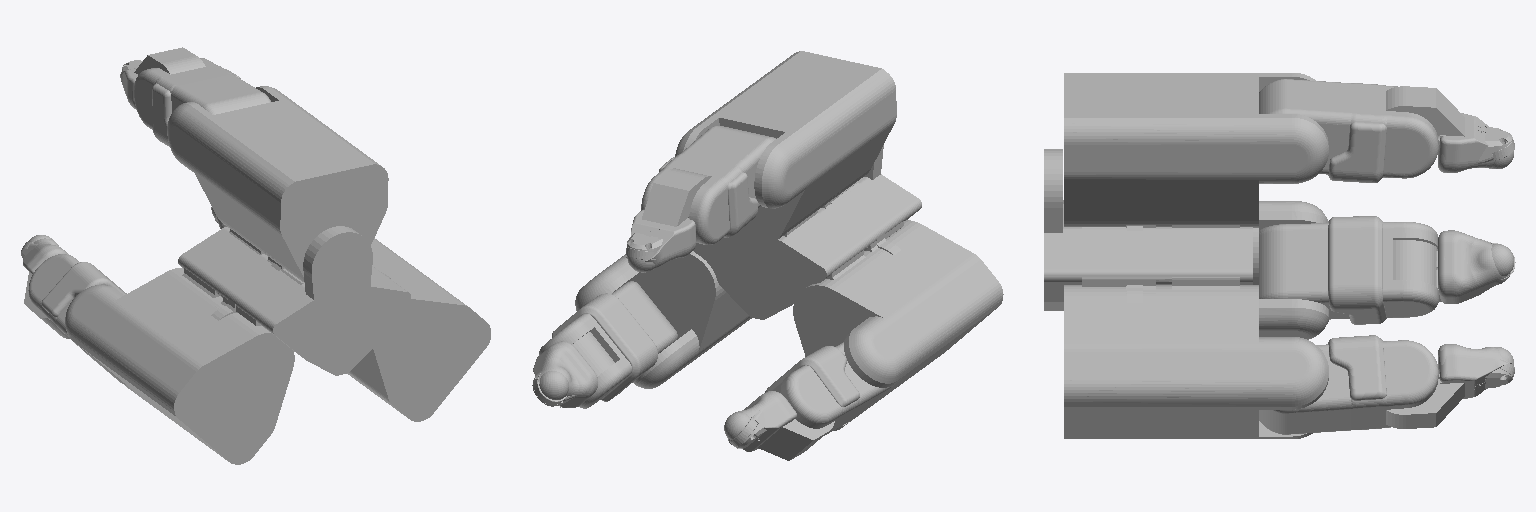
--- Render facts (derived) ---
3 views of the same robot in one strip: view 1: azimuth 30°, elevation 25°; view 2: azimuth 150°, elevation 25°; view 3: azimuth 270°, elevation 25° (orthographic).
Model smart_grasping_sandbox with 35 links and 34 joints (15 revolute, 19 fixed), rooted at world, posed all joints at 0.
Links seen in each view (by area): view 1: H1_F3_base_link, H1_F2_base_link, H1_base_link, H1_F1_base_link, H1_F2_link_1, H1_F3_link_1, H1_F2_link_2, H1_F3_link_2; view 2: H1_F2_base_link, H1_F3_base_link, H1_base_link, H1_F1_base_link, H1_F2_link_1, H1_F1_link_1, H1_F3_link_1, H1_F2_link_2, H1_F1_link_2, H1_F3_link_2, H1_F3_tip, H1_F1_tip (+1 smaller); view 3: H1_F2_base_link, H1_F1_base_link, H1_F3_link_1, H1_base_link, H1_F2_link_1, H1_F1_link_1, H1_F3_link_2, H1_F2_link_2, H1_F1_link_2, H1_F3_base_link, H1_F1_palm_link, H1_F2_tip (+2 smaller).
Link boxes in pixels (x1=…): H1_F3_base_link: x1=65, y1=268, x2=294, y2=464; H1_F2_base_link: x1=167, y1=86, x2=388, y2=282; H1_base_link: x1=178, y1=226, x2=410, y2=375; H1_F1_base_link: x1=347, y1=238, x2=490, y2=421; H1_F2_link_1: x1=134, y1=58, x2=270, y2=146; H1_F3_link_1: x1=28, y1=254, x2=126, y2=384; H1_F2_link_2: x1=120, y1=47, x2=205, y2=109; H1_F3_link_2: x1=23, y1=238, x2=69, y2=338; H1_F2_base_link: x1=675, y1=51, x2=896, y2=245; H1_F3_base_link: x1=793, y1=220, x2=1003, y2=430; H1_base_link: x1=693, y1=145, x2=921, y2=319; H1_F1_base_link: x1=575, y1=251, x2=751, y2=388; H1_F2_link_1: x1=641, y1=126, x2=775, y2=244; H1_F1_link_1: x1=539, y1=281, x2=677, y2=408; H1_F3_link_1: x1=765, y1=342, x2=893, y2=435; H1_F2_link_2: x1=631, y1=168, x2=711, y2=269; H1_F1_link_2: x1=533, y1=332, x2=614, y2=407; H1_F3_link_2: x1=728, y1=391, x2=834, y2=460; H1_F3_tip: x1=724, y1=410, x2=766, y2=448; H1_F1_tip: x1=532, y1=360, x2=585, y2=406; H1_F2_base_link: x1=1064, y1=73, x2=1328, y2=227; H1_F1_base_link: x1=1064, y1=285, x2=1328, y2=438; H1_F3_link_1: x1=1259, y1=216, x2=1438, y2=324; H1_base_link: x1=1044, y1=149, x2=1252, y2=310; H1_F2_link_1: x1=1259, y1=79, x2=1438, y2=182; H1_F1_link_1: x1=1259, y1=335, x2=1438, y2=434; H1_F3_link_2: x1=1393, y1=230, x2=1510, y2=303; H1_F2_link_2: x1=1386, y1=86, x2=1493, y2=172; H1_F1_link_2: x1=1386, y1=344, x2=1511, y2=428; H1_F3_base_link: x1=1253, y1=201, x2=1328, y2=339; H1_F1_palm_link: x1=1082, y1=277, x2=1239, y2=293; H1_F2_tip: x1=1478, y1=126, x2=1514, y2=168.
Size in the robot's own frame: 0.2063 by 0.2419 by 0.1683 metres.
16 mesh visuals loaded from 13 distinct referenced files (6 binary STL); not drawn: 7 (reference not matched to a file when rendering).

The robot description file, URDF, robot "smart_grasping_sandbox":
<?xml version="1.0" ?>
<!-- =================================================================================== -->
<!-- |    This document was autogenerated by xacro from /smart_grasping_sandbox/src/smart_grasping_sandbox/fh_desc/robots/right_H1_ur5.urdf | -->
<!-- |    EDITING THIS FILE BY HAND IS NOT RECOMMENDED                                 | -->
<!-- =================================================================================== -->
<robot name="smart_grasping_sandbox" xmlns:xacro="http://ros.org/wiki/xacro">
  <!--
  Author: Kelsey Hawkins
  Contributers: Jimmy Da Silva, Ajit Krisshna N L, Muhammad Asif Rana
-->
  <!-- Inertia parameters -->
  <!-- This mass might be incorrect -->
  <!-- These parameters are borrowed from the urcontrol.conf file
       but are not verified for the correct permutation.
       The permutation was guessed by looking at the UR5 parameters.
       Serious use of these parameters needs further inspection. -->
  <!-- Kinematic model -->
  <!-- Properties from urcontrol.conf -->
  <!-- Arbitrary offsets for shoulder/elbow joints -->
  <!-- measured from model -->
  <!-- measured from model -->
  <!-- link lengths used in model -->
  <link name="world"/>
  <joint name="world_joint" type="fixed">
    <parent link="world"/>
    <child link="base_link"/>
    <origin rpy="0.0 0.0 0.0" xyz="0.0 -1.0 1.0"/>
  </joint>
  <link name="base_link">
    <visual>
      <geometry>
        <mesh filename="package://ur_description/meshes/ur10/collision/base.stl"/>
      </geometry>
    </visual>
    <collision>
      <geometry>
        <mesh filename="package://ur_description/meshes/ur10/collision/base.stl"/>
      </geometry>
    </collision>
    <inertial>
      <mass value="4.0"/>
      <origin rpy="0 0 0" xyz="0.0 0.0 0.0"/>
      <inertia ixx="0.0061063308908" ixy="0.0" ixz="0.0" iyy="0.0061063308908" iyz="0.0" izz="0.01125"/>
    </inertial>
  </link>
  <joint name="shoulder_pan_joint" type="revolute">
    <parent link="base_link"/>
    <child link="shoulder_link"/>
    <origin rpy="0.0 0.0 0.0" xyz="0.0 0.0 0.1273"/>
    <axis xyz="0 0 1"/>
    <limit effort="330.0" lower="-3.14159265359" upper="3.14159265359" velocity="2.16"/>
    <dynamics damping="0.0" friction="0.0"/>
  </joint>
  <link name="shoulder_link">
    <visual>
      <geometry>
        <mesh filename="package://ur_description/meshes/ur10/collision/shoulder.stl"/>
      </geometry>
    </visual>
    <collision>
      <geometry>
        <mesh filename="package://ur_description/meshes/ur10/collision/shoulder.stl"/>
      </geometry>
    </collision>
    <inertial>
      <mass value="7.778"/>
      <origin rpy="0 0 0" xyz="0.0 0.0 0.0"/>
      <inertia ixx="0.0314743125769" ixy="0.0" ixz="0.0" iyy="0.0314743125769" iyz="0.0" izz="0.021875625"/>
    </inertial>
  </link>
  <joint name="shoulder_lift_joint" type="revolute">
    <parent link="shoulder_link"/>
    <child link="upper_arm_link"/>
    <origin rpy="0.0 1.57079632679 0.0" xyz="0.0 0.220941 0.0"/>
    <axis xyz="0 1 0"/>
    <limit effort="330.0" lower="-3.14159265359" upper="3.14159265359" velocity="2.16"/>
    <dynamics damping="0.0" friction="0.0"/>
  </joint>
  <link name="upper_arm_link">
    <visual>
      <geometry>
        <mesh filename="package://ur_description/meshes/ur10/collision/upperarm.stl"/>
      </geometry>
      <material name="LightGrey">
        <color rgba="0.7 0.7 0.7 1.0"/>
      </material>
    </visual>
    <collision>
      <geometry>
        <mesh filename="package://ur_description/meshes/ur10/collision/upperarm.stl"/>
      </geometry>
    </collision>
    <inertial>
      <mass value="12.93"/>
      <origin rpy="0 0 0" xyz="0.0 0.0 0.306"/>
      <inertia ixx="0.421753803798" ixy="0.0" ixz="0.0" iyy="0.421753803798" iyz="0.0" izz="0.036365625"/>
    </inertial>
  </link>
  <joint name="elbow_joint" type="revolute">
    <parent link="upper_arm_link"/>
    <child link="forearm_link"/>
    <origin rpy="0.0 0.0 0.0" xyz="0.0 -0.1719 0.612"/>
    <axis xyz="0 1 0"/>
    <limit effort="150.0" lower="-3.14159265359" upper="3.14159265359" velocity="3.15"/>
    <dynamics damping="0.0" friction="0.0"/>
  </joint>
  <link name="forearm_link">
    <visual>
      <geometry>
        <mesh filename="package://ur_description/meshes/ur10/collision/forearm.stl"/>
      </geometry>
      <material name="LightGrey">
        <color rgba="0.7 0.7 0.7 1.0"/>
      </material>
    </visual>
    <collision>
      <geometry>
        <mesh filename="package://ur_description/meshes/ur10/collision/forearm.stl"/>
      </geometry>
    </collision>
    <inertial>
      <mass value="3.87"/>
      <origin rpy="0 0 0" xyz="0.0 0.0 0.28615"/>
      <inertia ixx="0.111069694097" ixy="0.0" ixz="0.0" iyy="0.111069694097" iyz="0.0" izz="0.010884375"/>
    </inertial>
  </link>
  <joint name="wrist_1_joint" type="revolute">
    <parent link="forearm_link"/>
    <child link="wrist_1_link"/>
    <origin rpy="0.0 1.57079632679 0.0" xyz="0.0 0.0 0.5723"/>
    <axis xyz="0 1 0"/>
    <limit effort="54.0" lower="-3.14159265359" upper="3.14159265359" velocity="3.2"/>
    <dynamics damping="0.0" friction="0.0"/>
  </joint>
  <link name="wrist_1_link">
    <visual>
      <geometry>
        <mesh filename="package://ur_description/meshes/ur10/collision/wrist1.stl"/>
      </geometry>
      <material name="LightGrey">
        <color rgba="0.7 0.7 0.7 1.0"/>
      </material>
    </visual>
    <collision>
      <geometry>
        <mesh filename="package://ur_description/meshes/ur10/collision/wrist1.stl"/>
      </geometry>
    </collision>
    <inertial>
      <mass value="1.96"/>
      <origin rpy="0 0 0" xyz="0.0 0.0 0.0"/>
      <inertia ixx="0.0051082479567" ixy="0.0" ixz="0.0" iyy="0.0051082479567" iyz="0.0" izz="0.0055125"/>
    </inertial>
  </link>
  <joint name="wrist_2_joint" type="revolute">
    <parent link="wrist_1_link"/>
    <child link="wrist_2_link"/>
    <origin rpy="0.0 0.0 0.0" xyz="0.0 0.1149 0.0"/>
    <axis xyz="0 0 1"/>
    <limit effort="54.0" lower="-3.14159265359" upper="3.14159265359" velocity="3.2"/>
    <dynamics damping="0.0" friction="0.0"/>
  </joint>
  <link name="wrist_2_link">
    <visual>
      <geometry>
        <mesh filename="package://ur_description/meshes/ur10/collision/wrist2.stl"/>
      </geometry>
      <material name="LightGrey">
        <color rgba="0.7 0.7 0.7 1.0"/>
      </material>
    </visual>
    <collision>
      <geometry>
        <mesh filename="package://ur_description/meshes/ur10/collision/wrist2.stl"/>
      </geometry>
    </collision>
    <inertial>
      <mass value="1.96"/>
      <origin rpy="0 0 0" xyz="0.0 0.0 0.0"/>
      <inertia ixx="0.0051082479567" ixy="0.0" ixz="0.0" iyy="0.0051082479567" iyz="0.0" izz="0.0055125"/>
    </inertial>
  </link>
  <joint name="wrist_3_joint" type="revolute">
    <parent link="wrist_2_link"/>
    <child link="wrist_3_link"/>
    <origin rpy="0.0 0.0 0.0" xyz="0.0 0.0 0.1157"/>
    <axis xyz="0 1 0"/>
    <limit effort="54.0" lower="-3.14159265359" upper="3.14159265359" velocity="3.2"/>
    <dynamics damping="0.0" friction="0.0"/>
  </joint>
  <link name="wrist_3_link">
    <visual>
      <geometry>
        <mesh filename="package://ur_description/meshes/ur10/collision/wrist3.stl"/>
      </geometry>
      <material name="LightGrey">
        <color rgba="0.7 0.7 0.7 1.0"/>
      </material>
    </visual>
    <collision>
      <geometry>
        <mesh filename="package://ur_description/meshes/ur10/collision/wrist3.stl"/>
      </geometry>
    </collision>
    <inertial>
      <mass value="0.202"/>
      <origin rpy="0 0 0" xyz="0.0 0.0 0.0"/>
      <inertia ixx="0.000526462289415" ixy="0.0" ixz="0.0" iyy="0.000526462289415" iyz="0.0" izz="0.000568125"/>
    </inertial>
  </link>
  <joint name="ee_fixed_joint" type="fixed">
    <parent link="wrist_3_link"/>
    <child link="ee_link"/>
    <origin rpy="0.0 0.0 1.57079632679" xyz="0.0 0.0922 0.0"/>
  </joint>
  <link name="ee_link">
    <collision>
      <geometry>
        <box size="0.01 0.01 0.01"/>
      </geometry>
      <origin rpy="0 0 0" xyz="-0.01 0 0"/>
    </collision>
  </link>
  <transmission name="shoulder_pan_trans">
    <type>transmission_interface/SimpleTransmission</type>
    <joint name="shoulder_pan_joint">
      <hardwareInterface>PositionJointInterface</hardwareInterface>
    </joint>
    <actuator name="shoulder_pan_motor">
      <mechanicalReduction>1</mechanicalReduction>
    </actuator>
  </transmission>
  <transmission name="shoulder_lift_trans">
    <type>transmission_interface/SimpleTransmission</type>
    <joint name="shoulder_lift_joint">
      <hardwareInterface>PositionJointInterface</hardwareInterface>
    </joint>
    <actuator name="shoulder_lift_motor">
      <mechanicalReduction>1</mechanicalReduction>
    </actuator>
  </transmission>
  <transmission name="elbow_trans">
    <type>transmission_interface/SimpleTransmission</type>
    <joint name="elbow_joint">
      <hardwareInterface>PositionJointInterface</hardwareInterface>
    </joint>
    <actuator name="elbow_motor">
      <mechanicalReduction>1</mechanicalReduction>
    </actuator>
  </transmission>
  <transmission name="wrist_1_trans">
    <type>transmission_interface/SimpleTransmission</type>
    <joint name="wrist_1_joint">
      <hardwareInterface>PositionJointInterface</hardwareInterface>
    </joint>
    <actuator name="wrist_1_motor">
      <mechanicalReduction>1</mechanicalReduction>
    </actuator>
  </transmission>
  <transmission name="wrist_2_trans">
    <type>transmission_interface/SimpleTransmission</type>
    <joint name="wrist_2_joint">
      <hardwareInterface>PositionJointInterface</hardwareInterface>
    </joint>
    <actuator name="wrist_2_motor">
      <mechanicalReduction>1</mechanicalReduction>
    </actuator>
  </transmission>
  <transmission name="wrist_3_trans">
    <type>transmission_interface/SimpleTransmission</type>
    <joint name="wrist_3_joint">
      <hardwareInterface>PositionJointInterface</hardwareInterface>
    </joint>
    <actuator name="wrist_3_motor">
      <mechanicalReduction>1</mechanicalReduction>
    </actuator>
  </transmission>
  <!-- nothing to do here at the moment -->
  <!-- ROS base_link to UR 'Base' Coordinates transform -->
  <link name="base"/>
  <joint name="base_link-base_fixed_joint" type="fixed">
    <!-- NOTE: this rotation is only needed as long as base_link itself is
                 not corrected wrt the real robot (ie: rotated over 180
                 degrees)
      -->
    <origin rpy="0 0 -3.14159265359" xyz="0 0 0"/>
    <parent link="base_link"/>
    <child link="base"/>
  </joint>
  <!-- Frame coincident with all-zeros TCP on UR controller -->
  <link name="tool0"/>
  <joint name="wrist_3_link-tool0_fixed_joint" type="fixed">
    <origin rpy="-1.57079632679 0 0" xyz="0 0.0922 0"/>
    <parent link="wrist_3_link"/>
    <child link="tool0"/>
  </joint>
  
  
  
  
  <link name="H1_base_attach"/>
  <material name="Blue">
    <color rgba="0.0 0.0 0.8 1.0"/>
  </material>
  <material name="Green">
    <color rgba="0.0 0.8 0.0 1.0"/>
  </material>
  <material name="BiotacGreen">
    <color rgba="0.31 0.85 0.42 1.0"/>
  </material>
  <material name="Grey">
    <color rgba="0.2 0.2 0.2 1.0"/>
  </material>
  <material name="LightGrey">
    <color rgba="0.6 0.6 0.6 1.0"/>
  </material>
  <material name="Red">
    <color rgba="0.8 0.0 0.0 1.0"/>
  </material>
  <material name="White">
    <color rgba="1.0 1.0 1.0 1.0"/>
  </material>
  <gazebo>
    <plugin filename="libgazebo_ros_control.so" name="ros_control">
      <robotSimType>gazebo_ros_control/DefaultRobotHWSim</robotSimType>
    </plugin>
  </gazebo>
  <link name="H1_base_link">
    <inertial>
      <origin rpy="0 0 0" xyz="-8.6116E-06 -0.0058125 0.028294"/>
      <mass value="0.07527"/>
      <inertia ixx="0.00014442" ixy="1.2033E-08" ixz="-5.9646E-10" iyy="0.00014979" iyz="-1.0288E-05" izz="5.2943E-05"/>
    </inertial>
    <visual>
      <origin rpy="0 0 0" xyz="0 0 0"/>
      <geometry>
        <mesh filename="package://fh_desc/meshes/v2/palm_link_simple.stl"/>
      </geometry>
      <material name="light_grey">
        <color rgba="0.75 0.75 0.75 1.0"/>
      </material>
    </visual>
    <collision>
      <origin rpy="0 0 0" xyz="0 0 0"/>
      <geometry>
        <mesh filename="package://fh_desc/meshes/v2/palm_link_simple.stl"/>
      </geometry>
      <material name="light_grey">
        <color rgba="0.75 0.75 0.75 1.0"/>
      </material>
    </collision>
  </link>
  <joint name="H1Base" type="fixed">
    <origin rpy="0 0 0" xyz="0 0 0"/>
    <parent link="H1_base_attach"/>
    <child link="H1_wrist_attach"/>
  </joint>
  
  <gazebo>
    <plugin name="imu_controller" filename="libgazebo_ros_imu.so">
      <alwaysOn>true</alwaysOn>
      <updateRate>50</updateRate>
      <bodyName>H1_base_link</bodyName>
      <!--imu_link -->
      <topicName>imu/data</topicName>
      <serviceName>imu/is_calibrated</serviceName>
      <gaussianNoise>2.89e-08</gaussianNoise>
      <xyzOffsets>0 0 0</xyzOffsets>
      <rpyOffsets>0 0 0</rpyOffsets>
    </plugin>
  </gazebo>
  
  <link name="H1_insert_F1"/>
  <joint name="H1_dummy_joint_1" type="fixed">
    <origin rpy="0 0 2.3562" xyz="-0.045 -0.025981 0"/>
    <axis xyz="0 -1 0"/>
    <parent link="H1_base_link"/>
    <child link="H1_insert_F1"/>
  </joint>
  <link name="H1_insert_F2"/>
  <joint name="H1_dummy_joint_2" type="fixed">
    <origin rpy="0 0 0" xyz="0 0.029019 0"/>
    <axis xyz="0 -1 0"/>
    <parent link="H1_base_link"/>
    <child link="H1_insert_F2"/>
  </joint>
  <link name="H1_insert_F3"/>
  <joint name="H1_dummy_joint_3" type="fixed">
    <origin rpy="0 0 -2.3562" xyz="0.045 -0.025981 0"/>
    <axis xyz="0 -1 0"/>
    <parent link="H1_base_link"/>
    <child link="H1_insert_F3"/>
  </joint>
  <link name="H1_wrist_attach"/>
  <joint name="H1_base_link_wrist_attach" type="fixed">
    <origin rpy="0 0 0" xyz="0 0 -0.0005"/>
    <child link="H1_base_link"/>
    <parent link="H1_wrist_attach"/>
  </joint>
  <link name="H1_F1_palm_link">
    <inertial>
      <origin rpy="0 0 0" xyz="-0.00681802120880393 -0.00947020456878004 0.067587996682422"/>
      <mass value="0.0341482312344481"/>
      <inertia ixx="2.79747833772125E-05" ixy="-5.50900644725373E-08" ixz="-2.82072424927723E-07" iyy="2.67800858812928E-05" iyz="3.1953125069394E-06" izz="9.86122271726361E-06"/>
    </inertial>
    <visual>
      <origin rpy="0 0 0" xyz="0 0 0"/>
      <geometry>
        <mesh filename="package://fh_desc/meshes/v2/finger_palm_link.stl"/>
      </geometry>
      <material name="light_grey">
        <color rgba="0.75 0.75 0.75 1.0"/>
      </material>
    </visual>
  </link>
  <link name="H1_F1_base_link">
    <inertial>
      <origin rpy="0 0 0" xyz="-0.000142856770000038 0.0265691681336443 0.0538751581621436"/>
      <mass value="0.174652229503358"/>
      <inertia ixx="0.000298372741514267" ixy="-5.05751882577435E-07" ixz="1.94982779411417E-07" iyy="0.000299629589232877" iyz="2.79565205733806E-05" izz="0.000134889645145365"/>
    </inertial>
    <visual>
      <origin rpy="0 0 0" xyz="0 0 0"/>
      <geometry>
        <mesh filename="package://fh_desc/meshes/v2/finger_base_link_simple.stl"/>
      </geometry>
      <material name="light_grey">
        <color rgba="0.75 0.75 0.75 1.0"/>
      </material>
    </visual>
    <collision>
      <origin rpy="0 0 0" xyz="0 0 0"/>
      <geometry>
        <mesh filename="package://fh_desc/meshes/v2/finger_base_link_simple.stl"/>
      </geometry>
      <material name="light_grey">
        <color rgba="0.75 0.75 0.75 1.0"/>
      </material>
    </collision>
  </link>
  <link name="H1_F1_link_1">
    <inertial>
      <origin rpy="0 0 0" xyz="-0.000141876508729455 -0.00135409566494088 0.0277606215980989"/>
      <mass value="0.0827759744227546"/>
      <inertia ixx="4.61070151157777E-05" ixy="7.47741111557837E-08" ixz="-2.25165057702697E-07" iyy="5.27678327317508E-05" iyz="-3.64603343546298E-07" izz="2.89599551320955E-05"/>
    </inertial>
    <visual>
      <origin rpy="0 0 0" xyz="0 0 0"/>
      <geometry>
        <mesh filename="package://fh_desc/meshes/v2/finger_prox_link_simple.stl"/>
      </geometry>
      <material name="light_grey">
        <color rgba="0.75 0.75 0.75 1.0"/>
      </material>
    </visual>
    <collision>
      <origin rpy="0 0 0" xyz="0 0 0"/>
      <geometry>
        <mesh filename="package://fh_desc/meshes/v2/finger_prox_link_simple.stl"/>
      </geometry>
      <material name="light_grey">
        <color rgba="0.75 0.75 0.75 1.0"/>
      </material>
    </collision>
  </link>
  <link name="H1_F1_link_2">
    <inertial>
      <origin rpy="0 0 0" xyz="0.000506812071918918 -0.00091292934992606 0.0156620851768385"/>
      <mass value="0.0270049614151599"/>
      <inertia ixx="1.06942730265546E-05" ixy="-7.1810089794211E-09" ixz="-3.49957211410822E-07" iyy="1.05772889540593E-05" iyz="-8.38595987731518E-07" izz="3.27173446995846E-06"/>
    </inertial>
    <visual>
      <origin rpy="0 0 0" xyz="0 0 0"/>
      <geometry>
        <mesh filename="package://fh_desc/meshes/v2/finger_dist_link_simple.stl"/>
      </geometry>
      <material name="light_grey">
        <color rgba="0.75 0.75 0.75 1.0"/>
      </material>
    </visual>
    <collision>
      <origin rpy="0 0 0" xyz="0 0 0"/>
      <geometry>
        <mesh filename="package://fh_desc/meshes/v2/finger_dist_link_simple.stl"/>
      </geometry>
      <material name="light_grey">
        <color rgba="0.75 0.75 0.75 1.0"/>
      </material>
    </collision>
  </link>
  <joint name="H1_F1Palm" type="fixed">
    <origin rpy="0 0 0" xyz="0 0 0"/>
    <parent link="H1_insert_F1"/>
    <child link="H1_F1_palm_link"/>
  </joint>
  <joint name="H1_F1J1" type="revolute">
    <origin rpy="-8.8818E-16 -1.0061E-16 0.022402" xyz="0 0 0.00016528"/>
    <axis xyz="0 0 1"/>
    <parent link="H1_F1_palm_link"/>
    <child link="H1_F1_base_link"/>
    <limit effort="50" lower="-0.785398163397" upper="0.785398163397" velocity="1.0"/>
    <dynamics damping="0.0" friction="0.0"/>
  </joint>
  <joint name="H1_F1J2" type="revolute">
    <origin rpy="0.070695 6.9389E-16 2.0947E-16" xyz="0 0.035 0.11683"/>
    <axis xyz="1 0 0"/>
    <parent link="H1_F1_base_link"/>
    <child link="H1_F1_link_1"/>
    <limit effort="50" lower="-1.3962634016" upper="1.0471975512" velocity="1.0"/>
    <dynamics damping="0.0" friction="0.0"/>
  </joint>
  <joint name="H1_F1J3" type="revolute">
    <origin rpy="-0.0068649 1.7347E-18 1.6176E-16" xyz="0 0 0.06"/>
    <axis xyz="1 0 0"/>
    <parent link="H1_F1_link_1"/>
    <child link="H1_F1_link_2"/>
    <limit effort="50" lower="-1.0471975512" upper="1.57079632679" velocity="1.0"/>
    <dynamics damping="0.0" friction="0.0"/>
  </joint>
  <transmission name="H1_F1J1_transmission">
    <type>transmission_interface/SimpleTransmission</type>
    <actuator name="H1_F1J1">
      <mechanicalReduction>1</mechanicalReduction>
    </actuator>
    <joint name="H1_F1J1">
      <hardwareInterface>EffortJointInterface</hardwareInterface>
    </joint>
  </transmission>
  <transmission name="H1_F1J2_transmission">
    <type>transmission_interface/SimpleTransmission</type>
    <actuator name="H1_F1J2">
      <mechanicalReduction>1</mechanicalReduction>
    </actuator>
    <joint name="H1_F1J2">
      <hardwareInterface>EffortJointInterface</hardwareInterface>
    </joint>
  </transmission>
  <transmission name="H1_F1J3_transmission">
    <type>transmission_interface/SimpleTransmission</type>
    <actuator name="H1_F1J3">
      <mechanicalReduction>1</mechanicalReduction>
    </actuator>
    <joint name="H1_F1J3">
      <hardwareInterface>EffortJointInterface</hardwareInterface>
    </joint>
  </transmission>
  <!-- finger tip -->
  <link name="H1_F1_tip">
    <inertial>
      <origin rpy="0 0 0" xyz="-0.000925580990320645 -0.00495543398528436 0.0355865585792753"/>
      <mass value="0.00906322686585137"/>
      <inertia ixx="1.10049088227995E-06" ixy="-3.7290982171096E-09" ixz="-9.54389365908683E-09" iyy="1.36130530510584E-06" iyz="6.66133713720777E-08" izz="6.42259773618367E-07"/>
    </inertial>
    <visual>
      <origin rpy="0 0 0" xyz="0 0 0"/>
      <geometry>
        <mesh filename="package://fh_desc/meshes/omd-d18-tip.stl"/>
      </geometry>
      <material name="light_grey">
        <color rgba="0.75 0.75 0.75 1.0"/>
      </material>
    </visual>
    <collision>
      <origin rpy="0 0 0" xyz="0 0 0"/>
      <geometry>
        <mesh filename="package://fh_desc/meshes/omd-d18-tip.stl"/>
      </geometry>
      <material name="light_grey">
        <color rgba="0.75 0.75 0.75 1.0"/>
      </material>
    </collision>
  </link>
  <link name="H1_F1_optoforce"/>
  <joint name="H1_F1_tip_to_optoforce" type="fixed">
    <parent link="H1_F1_tip"/>
    <child link="H1_F1_optoforce"/>
    <origin rpy="-0.35 0 0" xyz="0 -0.006 0.046"/>
  </joint>
  <joint name="H1_F1_tip" type="fixed">
    <parent link="H1_F1_link_2"/>
    <child link="H1_F1_tip"/>
  </joint>
  <link name="H1_F2_palm_link">
    <inertial>
      <origin rpy="0 0 0" xyz="-0.00681802120880393 -0.00947020456878004 0.067587996682422"/>
      <mass value="0.0341482312344481"/>
      <inertia ixx="2.79747833772125E-05" ixy="-5.50900644725373E-08" ixz="-2.82072424927723E-07" iyy="2.67800858812928E-05" iyz="3.1953125069394E-06" izz="9.86122271726361E-06"/>
    </inertial>
    <visual>
      <origin rpy="0 0 0" xyz="0 0 0"/>
      <geometry>
        <mesh filename="package://fh_desc/meshes/v2/finger_palm_link.stl"/>
      </geometry>
      <material name="light_grey">
        <color rgba="0.75 0.75 0.75 1.0"/>
      </material>
    </visual>
  </link>
  <link name="H1_F2_base_link">
    <inertial>
      <origin rpy="0 0 0" xyz="-0.000142856770000038 0.0265691681336443 0.0538751581621436"/>
      <mass value="0.174652229503358"/>
      <inertia ixx="0.000298372741514267" ixy="-5.05751882577435E-07" ixz="1.94982779411417E-07" iyy="0.000299629589232877" iyz="2.79565205733806E-05" izz="0.000134889645145365"/>
    </inertial>
    <visual>
      <origin rpy="0 0 0" xyz="0 0 0"/>
      <geometry>
        <mesh filename="package://fh_desc/meshes/v2/finger_base_link_simple.stl"/>
      </geometry>
      <material name="light_grey">
        <color rgba="0.75 0.75 0.75 1.0"/>
      </material>
    </visual>
    <collision>
      <origin rpy="0 0 0" xyz="0 0 0"/>
      <geometry>
        <mesh filename="package://fh_desc/meshes/v2/finger_base_link_simple.stl"/>
      </geometry>
      <material name="light_grey">
        <color rgba="0.75 0.75 0.75 1.0"/>
      </material>
    </collision>
  </link>
  <link name="H1_F2_link_1">
    <inertial>
      <origin rpy="0 0 0" xyz="-0.000141876508729455 -0.00135409566494088 0.0277606215980989"/>
      <mass value="0.0827759744227546"/>
      <inertia ixx="4.61070151157777E-05" ixy="7.47741111557837E-08" ixz="-2.25165057702697E-07" iyy="5.27678327317508E-05" iyz="-3.64603343546298E-07" izz="2.89599551320955E-05"/>
    </inertial>
    <visual>
      <origin rpy="0 0 0" xyz="0 0 0"/>
      <geometry>
        <mesh filename="package://fh_desc/meshes/v2/finger_prox_link_simple.stl"/>
      </geometry>
      <material name="light_grey">
        <color rgba="0.75 0.75 0.75 1.0"/>
      </material>
    </visual>
    <collision>
      <origin rpy="0 0 0" xyz="0 0 0"/>
      <geometry>
        <mesh filename="package://fh_desc/meshes/v2/finger_prox_link_simple.stl"/>
      </geometry>
      <material name="light_grey">
        <color rgba="0.75 0.75 0.75 1.0"/>
      </material>
    </collision>
  </link>
  <link name="H1_F2_link_2">
    <inertial>
      <origin rpy="0 0 0" xyz="0.000506812071918918 -0.00091292934992606 0.0156620851768385"/>
      <mass value="0.0270049614151599"/>
      <inertia ixx="1.06942730265546E-05" ixy="-7.1810089794211E-09" ixz="-3.49957211410822E-07" iyy="1.05772889540593E-05" iyz="-8.38595987731518E-07" izz="3.27173446995846E-06"/>
    </inertial>
    <visual>
      <origin rpy="0 0 0" xyz="0 0 0"/>
      <geometry>
        <mesh filename="package://fh_desc/meshes/v2/finger_dist_link_simple.stl"/>
      </geometry>
      <material name="light_grey">
        <color rgba="0.75 0.75 0.75 1.0"/>
      </material>
    </visual>
    <collision>
      <origin rpy="0 0 0" xyz="0 0 0"/>
      <geometry>
        <mesh filename="package://fh_desc/meshes/v2/finger_dist_link_simple.stl"/>
      </geometry>
      <material name="light_grey">
        <color rgba="0.75 0.75 0.75 1.0"/>
      </material>
    </collision>
  </link>
  <joint name="H1_F2Palm" type="fixed">
    <origin rpy="0 0 0" xyz="0 0 0"/>
    <parent link="H1_insert_F2"/>
    <child link="H1_F2_palm_link"/>
  </joint>
  <joint name="H1_F2J1" type="revolute">
    <origin rpy="-8.8818E-16 -1.0061E-16 0.022402" xyz="0 0 0.00016528"/>
    <axis xyz="0 0 1"/>
    <parent link="H1_F2_palm_link"/>
    <child link="H1_F2_base_link"/>
    <limit effort="30" lower="-0.785398163397" upper="0.785398163397" velocity="1.0"/>
    <dynamics damping="0.0" friction="0.0"/>
  </joint>
  <joint name="H1_F2J2" type="revolute">
    <origin rpy="0.070695 6.9389E-16 2.0947E-16" xyz="0 0.035 0.11683"/>
    <axis xyz="1 0 0"/>
    <parent link="H1_F2_base_link"/>
    <child link="H1_F2_link_1"/>
    <limit effort="30" lower="-1.3962634016" upper="1.0471975512" velocity="1.0"/>
    <dynamics damping="0.0" friction="0.0"/>
  </joint>
  <joint name="H1_F2J3" type="revolute">
    <origin rpy="-0.0068649 1.7347E-18 1.6176E-16" xyz="0 0 0.06"/>
    <axis xyz="1 0 0"/>
    <parent link="H1_F2_link_1"/>
    <child link="H1_F2_link_2"/>
    <limit effort="30" lower="-1.0471975512" upper="1.57079632679" velocity="1.0"/>
    <dynamics damping="0.0" friction="0.0"/>
  </joint>
  <transmission name="H1_F2J1_transmission">
    <type>transmission_interface/SimpleTransmission</type>
    <actuator name="H1_F2J1">
      <mechanicalReduction>1</mechanicalReduction>
    </actuator>
    <joint name="H1_F2J1">
      <hardwareInterface>EffortJointInterface</hardwareInterface>
    </joint>
  </transmission>
  <transmission name="H1_F2J2_transmission">
    <type>transmission_interface/SimpleTransmission</type>
    <actuator name="H1_F2J2">
      <mechanicalReduction>1</mechanicalReduction>
    </actuator>
    <joint name="H1_F2J2">
      <hardwareInterface>EffortJointInterface</hardwareInterface>
    </joint>
  </transmission>
  <transmission name="H1_F2J3_transmission">
    <type>transmission_interface/SimpleTransmission</type>
    <actuator name="H1_F2J3">
      <mechanicalReduction>1</mechanicalReduction>
    </actuator>
    <joint name="H1_F2J3">
      <hardwareInterface>EffortJointInterface</hardwareInterface>
    </joint>
  </transmission>
  <!-- finger tip -->
  <link name="H1_F2_tip">
    <inertial>
      <origin rpy="0 0 0" xyz="-0.000925580990320645 -0.00495543398528436 0.0355865585792753"/>
      <mass value="0.00906322686585137"/>
      <inertia ixx="1.10049088227995E-06" ixy="-3.7290982171096E-09" ixz="-9.54389365908683E-09" iyy="1.36130530510584E-06" iyz="6.66133713720777E-08" izz="6.42259773618367E-07"/>
    </inertial>
    <visual>
      <origin rpy="0 0 0" xyz="0 0 0"/>
      <geometry>
        <mesh filename="package://fh_desc/meshes/omd-d18-tip.stl"/>
      </geometry>
      <material name="light_grey">
        <color rgba="0.75 0.75 0.75 1.0"/>
      </material>
    </visual>
    <collision>
      <origin rpy="0 0 0" xyz="0 0 0"/>
      <geometry>
        <mesh filename="package://fh_desc/meshes/omd-d18-tip.stl"/>
      </geometry>
      <material name="light_grey">
        <color rgba="0.75 0.75 0.75 1.0"/>
      </material>
    </collision>
  </link>
  <link name="H1_F2_optoforce"/>
  <joint name="H1_F2_tip_to_optoforce" type="fixed">
    <parent link="H1_F2_tip"/>
    <child link="H1_F2_optoforce"/>
    <origin rpy="-0.35 0 0" xyz="0 -0.006 0.046"/>
  </joint>
  <joint name="H1_F2_tip" type="fixed">
    <parent link="H1_F2_link_2"/>
    <child link="H1_F2_tip"/>
  </joint>
  <link name="H1_F3_palm_link">
    <inertial>
      <origin rpy="0 0 0" xyz="-0.00681802120880393 -0.00947020456878004 0.067587996682422"/>
      <mass value="0.0341482312344481"/>
      <inertia ixx="2.79747833772125E-05" ixy="-5.50900644725373E-08" ixz="-2.82072424927723E-07" iyy="2.67800858812928E-05" iyz="3.1953125069394E-06" izz="9.86122271726361E-06"/>
    </inertial>
    <visual>
      <origin rpy="0 0 0" xyz="0 0 0"/>
      <geometry>
        <mesh filename="package://fh_desc/meshes/v2/finger_palm_link.stl"/>
      </geometry>
      <material name="light_grey">
        <color rgba="0.75 0.75 0.75 1.0"/>
      </material>
    </visual>
  </link>
  <link name="H1_F3_base_link">
    <inertial>
      <origin rpy="0 0 0" xyz="-0.000142856770000038 0.0265691681336443 0.0538751581621436"/>
      <mass value="0.174652229503358"/>
      <inertia ixx="0.000298372741514267" ixy="-5.05751882577435E-07" ixz="1.94982779411417E-07" iyy="0.000299629589232877" iyz="2.79565205733806E-05" izz="0.000134889645145365"/>
    </inertial>
    <visual>
      <origin rpy="0 0 0" xyz="0 0 0"/>
      <geometry>
        <mesh filename="package://fh_desc/meshes/v2/finger_base_link_simple.stl"/>
      </geometry>
      <material name="light_grey">
        <color rgba="0.75 0.75 0.75 1.0"/>
      </material>
    </visual>
    <collision>
      <origin rpy="0 0 0" xyz="0 0 0"/>
      <geometry>
        <mesh filename="package://fh_desc/meshes/v2/finger_base_link_simple.stl"/>
      </geometry>
      <material name="light_grey">
        <color rgba="0.75 0.75 0.75 1.0"/>
      </material>
    </collision>
  </link>
  <link name="H1_F3_link_1">
    <inertial>
      <origin rpy="0 0 0" xyz="-0.000141876508729455 -0.00135409566494088 0.0277606215980989"/>
      <mass value="0.0827759744227546"/>
      <inertia ixx="4.61070151157777E-05" ixy="7.47741111557837E-08" ixz="-2.25165057702697E-07" iyy="5.27678327317508E-05" iyz="-3.64603343546298E-07" izz="2.89599551320955E-05"/>
    </inertial>
    <visual>
      <origin rpy="0 0 0" xyz="0 0 0"/>
      <geometry>
        <mesh filename="package://fh_desc/meshes/v2/finger_prox_link_simple.stl"/>
      </geometry>
      <material name="light_grey">
        <color rgba="0.75 0.75 0.75 1.0"/>
      </material>
    </visual>
    <collision>
      <origin rpy="0 0 0" xyz="0 0 0"/>
      <geometry>
        <mesh filename="package://fh_desc/meshes/v2/finger_prox_link_simple.stl"/>
      </geometry>
      <material name="light_grey">
        <color rgba="0.75 0.75 0.75 1.0"/>
      </material>
    </collision>
  </link>
  <link name="H1_F3_link_2">
    <inertial>
      <origin rpy="0 0 0" xyz="0.000506812071918918 -0.00091292934992606 0.0156620851768385"/>
      <mass value="0.0270049614151599"/>
      <inertia ixx="1.06942730265546E-05" ixy="-7.1810089794211E-09" ixz="-3.49957211410822E-07" iyy="1.05772889540593E-05" iyz="-8.38595987731518E-07" izz="3.27173446995846E-06"/>
    </inertial>
    <visual>
      <origin rpy="0 0 0" xyz="0 0 0"/>
      <geometry>
        <mesh filename="package://fh_desc/meshes/v2/finger_dist_link_simple.stl"/>
      </geometry>
      <material name="light_grey">
        <color rgba="0.75 0.75 0.75 1.0"/>
      </material>
    </visual>
    <collision>
      <origin rpy="0 0 0" xyz="0 0 0"/>
      <geometry>
        <mesh filename="package://fh_desc/meshes/v2/finger_dist_link_simple.stl"/>
      </geometry>
      <material name="light_grey">
        <color rgba="0.75 0.75 0.75 1.0"/>
      </material>
    </collision>
  </link>
  <joint name="H1_F3Palm" type="fixed">
    <origin rpy="0 0 0" xyz="0 0 0"/>
    <parent link="H1_insert_F3"/>
    <child link="H1_F3_palm_link"/>
  </joint>
  <joint name="H1_F3J1" type="revolute">
    <origin rpy="-8.8818E-16 -1.0061E-16 0.022402" xyz="0 0 0.00016528"/>
    <axis xyz="0 0 1"/>
    <parent link="H1_F3_palm_link"/>
    <child link="H1_F3_base_link"/>
    <limit effort="30" lower="-0.785398163397" upper="0.785398163397" velocity="1.0"/>
    <dynamics damping="0.0" friction="0.0"/>
  </joint>
  <joint name="H1_F3J2" type="revolute">
    <origin rpy="0.070695 6.9389E-16 2.0947E-16" xyz="0 0.035 0.11683"/>
    <axis xyz="1 0 0"/>
    <parent link="H1_F3_base_link"/>
    <child link="H1_F3_link_1"/>
    <limit effort="30" lower="-1.3962634016" upper="1.0471975512" velocity="1.0"/>
    <dynamics damping="0.0" friction="0.0"/>
  </joint>
  <joint name="H1_F3J3" type="revolute">
    <origin rpy="-0.0068649 1.7347E-18 1.6176E-16" xyz="0 0 0.06"/>
    <axis xyz="1 0 0"/>
    <parent link="H1_F3_link_1"/>
    <child link="H1_F3_link_2"/>
    <limit effort="30" lower="-1.0471975512" upper="1.57079632679" velocity="1.0"/>
    <dynamics damping="0.0" friction="0.0"/>
  </joint>
  <transmission name="H1_F3J1_transmission">
    <type>transmission_interface/SimpleTransmission</type>
    <actuator name="H1_F3J1">
      <mechanicalReduction>1</mechanicalReduction>
    </actuator>
    <joint name="H1_F3J1">
      <hardwareInterface>EffortJointInterface</hardwareInterface>
    </joint>
  </transmission>
  <transmission name="H1_F3J2_transmission">
    <type>transmission_interface/SimpleTransmission</type>
    <actuator name="H1_F3J2">
      <mechanicalReduction>1</mechanicalReduction>
    </actuator>
    <joint name="H1_F3J2">
      <hardwareInterface>EffortJointInterface</hardwareInterface>
    </joint>
  </transmission>
  <transmission name="H1_F3J3_transmission">
    <type>transmission_interface/SimpleTransmission</type>
    <actuator name="H1_F3J3">
      <mechanicalReduction>1</mechanicalReduction>
    </actuator>
    <joint name="H1_F3J3">
      <hardwareInterface>EffortJointInterface</hardwareInterface>
    </joint>
  </transmission>
  <!-- finger tip -->
  <link name="H1_F3_tip">
    <inertial>
      <origin rpy="0 0 0" xyz="-0.000925580990320645 -0.00495543398528436 0.0355865585792753"/>
      <mass value="0.00906322686585137"/>
      <inertia ixx="1.10049088227995E-06" ixy="-3.7290982171096E-09" ixz="-9.54389365908683E-09" iyy="1.36130530510584E-06" iyz="6.66133713720777E-08" izz="6.42259773618367E-07"/>
    </inertial>
    <visual>
      <origin rpy="0 0 0" xyz="0 0 0"/>
      <geometry>
        <mesh filename="package://fh_desc/meshes/omd-d18-tip.stl"/>
      </geometry>
      <material name="light_grey">
        <color rgba="0.75 0.75 0.75 1.0"/>
      </material>
    </visual>
    <collision>
      <origin rpy="0 0 0" xyz="0 0 0"/>
      <geometry>
        <mesh filename="package://fh_desc/meshes/omd-d18-tip.stl"/>
      </geometry>
      <material name="light_grey">
        <color rgba="0.75 0.75 0.75 1.0"/>
      </material>
    </collision>
  </link>
  <link name="H1_F3_optoforce"/>
  <joint name="H1_F3_tip_to_optoforce" type="fixed">
    <parent link="H1_F3_tip"/>
    <child link="H1_F3_optoforce"/>
    <origin rpy="-0.35 0 0" xyz="0 -0.006 0.046"/>
  </joint>
  <joint name="H1_F3_tip" type="fixed">
    <parent link="H1_F3_link_2"/>
    <child link="H1_F3_tip"/>
  </joint>
  
  
  <joint name="arm_to_hand" type="fixed">
    <parent link="ee_link"/>
    <child link="H1_base_attach"/>
    <origin rpy="1.57079632679 3.14159265359 1.57079632679" xyz="0.012 0.0 0.0"/>
  </joint>
  
  
  <gazebo reference="H1_F1J1">
    <implicitSpringDamper>1</implicitSpringDamper>
  </gazebo>
  <gazebo reference="H1_F1J2">
    <implicitSpringDamper>1</implicitSpringDamper>
  </gazebo>
  <gazebo reference="H1_F1J3">
    <implicitSpringDamper>1</implicitSpringDamper>
  </gazebo>
  <gazebo reference="H1_F2J1">
    <implicitSpringDamper>1</implicitSpringDamper>
  </gazebo>
  <gazebo reference="H1_F2J2">
    <implicitSpringDamper>1</implicitSpringDamper>
  </gazebo>
  <gazebo reference="H1_F2J3">
    <implicitSpringDamper>1</implicitSpringDamper>
  </gazebo>
  <gazebo reference="H1_F3J1">
    <implicitSpringDamper>1</implicitSpringDamper>
  </gazebo>
  <gazebo reference="H1_F3J2">
    <implicitSpringDamper>1</implicitSpringDamper>
  </gazebo>
  <gazebo reference="H1_F3J3">
    <implicitSpringDamper>1</implicitSpringDamper>
  </gazebo>
  
  <gazebo reference="H1_F1_link_1">  
    <kp>1000000.0</kp>
    <kd>100.0</kd>
    <mu1>1.5</mu1>
    <mu2>1.5</mu2>
    <fdir1>1 0 0</fdir1>
    <maxVel>1.0</maxVel>
    <minDepth>0.002</minDepth>
    
    <material>Gazebo/DarkGrey</material>
  </gazebo>
  <gazebo reference="H1_F1_link_2">
    <kp>1000000.0</kp>
    <kd>100.0</kd>
    <mu1>1.5</mu1>
    <mu2>1.5</mu2>
    <fdir1>1 0 0</fdir1>
    <maxVel>1.0</maxVel>
    <minDepth>0.002</minDepth>
    
    <material>Gazebo/DarkGrey</material>
  </gazebo><gazebo reference="H1_F1_tip">
    <kp>1000000.0</kp>
    <kd>100.0</kd>
    <mu1>1.5</mu1>
    <mu2>1.5</mu2>
    <fdir1>1 0 0</fdir1>
    <maxVel>1.0</maxVel>
    <minDepth>0.002</minDepth>
    
    <material>Gazebo/DarkGrey</material>
  </gazebo>
  
  <gazebo reference="H1_F2_link_1">
    <kp>1000000.0</kp>
    <kd>100.0</kd>
    <mu1>1.5</mu1>
    <mu2>1.5</mu2>
    <fdir1>1 0 0</fdir1>
    <maxVel>1.0</maxVel>
    <minDepth>0.002</minDepth>
    
    <material>Gazebo/DarkGrey</material>
  </gazebo>
  <gazebo reference="H1_F2_link_2">
    <kp>1000000.0</kp>
    <kd>100.0</kd>
    <mu1>1.5</mu1>
    <mu2>1.5</mu2>
    <fdir1>1 0 0</fdir1>
    <maxVel>1.0</maxVel>
    <minDepth>0.002</minDepth>
    
    <material>Gazebo/DarkGrey</material>
  </gazebo><gazebo reference="H1_F2_tip">
    <kp>1000000.0</kp>
    <kd>100.0</kd>
    <mu1>1.5</mu1>
    <mu2>1.5</mu2>
    <fdir1>1 0 0</fdir1>
    <maxVel>1.0</maxVel>
    <minDepth>0.002</minDepth>
    
    <material>Gazebo/DarkGrey</material>
  </gazebo>
  
  <gazebo reference="H1_F3_link_1">
    <kp>1000000.0</kp>
    <kd>100.0</kd>
    <mu1>1.5</mu1>
    <mu2>1.5</mu2>
    <fdir1>1 0 0</fdir1>
    <maxVel>1.0</maxVel>
    <minDepth>0.002</minDepth>
    
    <material>Gazebo/DarkGrey</material>
  </gazebo>
  <gazebo reference="H1_F3_link_2">
    <kp>1000000.0</kp>
    <kd>100.0</kd>
    <mu1>1.5</mu1>
    <mu2>1.5</mu2>
    <fdir1>1 0 0</fdir1>
    <maxVel>1.0</maxVel>
    <minDepth>0.002</minDepth>
    
    <material>Gazebo/DarkGrey</material>
  </gazebo><gazebo reference="H1_F3_tip">
    <kp>1000000.0</kp>
    <kd>100.0</kd>
    <mu1>1.5</mu1>
    <mu2>1.5</mu2>
    <fdir1>1 0 0</fdir1>
    <maxVel>1.0</maxVel>
    <minDepth>0.002</minDepth>
    
    <material>Gazebo/DarkGrey</material>
  </gazebo>
  
  <gazebo reference="H1_F1_base_link">
    <kp>1000000.0</kp>
    <kd>100.0</kd>
    <mu1>1.5</mu1>
    <mu2>1.5</mu2>
    <fdir1>1 0 0</fdir1>
    <maxVel>1.0</maxVel>
    <minDepth>0.002</minDepth>
    
    <material>Gazebo/DarkGrey</material>
  </gazebo>
  <gazebo reference="H1_F2_base_link">
    <kp>1000000.0</kp>
    <kd>100.0</kd>
    <mu1>1.5</mu1>
    <mu2>1.5</mu2>
    <fdir1>1 0 0</fdir1>
    <maxVel>1.0</maxVel>
    <minDepth>0.002</minDepth>
    
    <material>Gazebo/DarkGrey</material>
  </gazebo>
  <gazebo reference="H1_F3_base_link">
    <kp>1000000.0</kp>
    <kd>100.0</kd>
    <mu1>1.5</mu1>
    <mu2>1.5</mu2>
    <fdir1>1 0 0</fdir1>
    <maxVel>1.0</maxVel>
    <minDepth>0.002</minDepth>
    
    <material>Gazebo/DarkGrey</material>
  </gazebo>
  
  <gazebo reference="H1_F1_palm_link">
    <kp>1000000.0</kp>
    <kd>100.0</kd>
    <mu1>1.5</mu1>
    <mu2>1.5</mu2>
    <fdir1>1 0 0</fdir1>
    <maxVel>1.0</maxVel>
    <minDepth>0.002</minDepth>
    
    <material>Gazebo/DarkGrey</material>
  </gazebo>
  <gazebo reference="H1_F2_palm_link">
    <kp>1000000.0</kp>
    <kd>100.0</kd>
    <mu1>1.5</mu1>
    <mu2>1.5</mu2>
    <fdir1>1 0 0</fdir1>
    <maxVel>1.0</maxVel>
    <minDepth>0.002</minDepth>
    
    <material>Gazebo/DarkGrey</material>
  </gazebo>
  <gazebo reference="H1_F3_palm_link">
    <kp>1000000.0</kp>
    <kd>100.0</kd>
    <mu1>1.5</mu1>
    <mu2>1.5</mu2>
    <fdir1>1 0 0</fdir1>
    <maxVel>1.0</maxVel>
    <minDepth>0.002</minDepth>
    
    <material>Gazebo/DarkGrey</material>
  </gazebo>
  
  <gazebo reference="H1_base_link">
    <kp>1000000.0</kp>
    <kd>100.0</kd>
    <mu1>1.5</mu1>
    <mu2>1.5</mu2>
    <fdir1>1 0 0</fdir1>
    <maxVel>1.0</maxVel>
    <minDepth>0.002</minDepth>
    
    <material>Gazebo/DarkGrey</material>
  </gazebo>
  
</robot>
